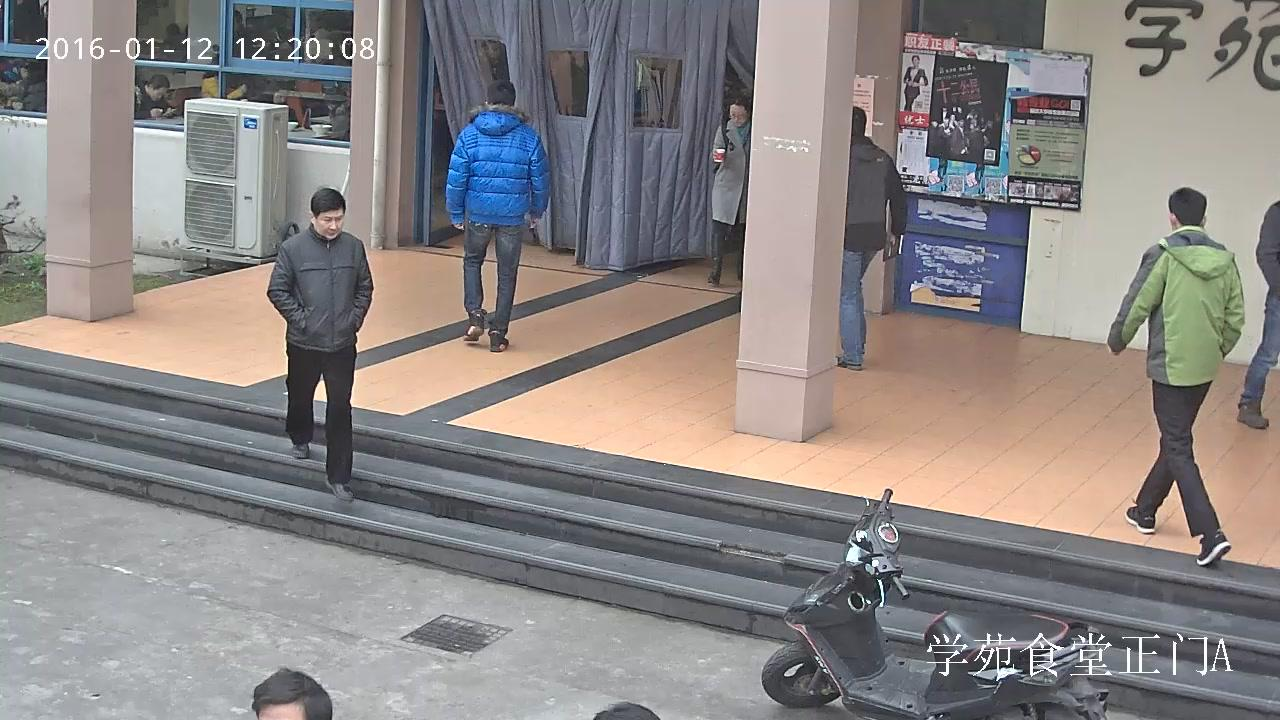person: (1106, 187, 1248, 567), (266, 186, 373, 504), (442, 77, 551, 354), (836, 105, 909, 370), (1237, 198, 1280, 429), (706, 94, 750, 285), (198, 51, 246, 99), (133, 74, 176, 119), (18, 61, 46, 113), (902, 54, 927, 110), (324, 86, 349, 140)
